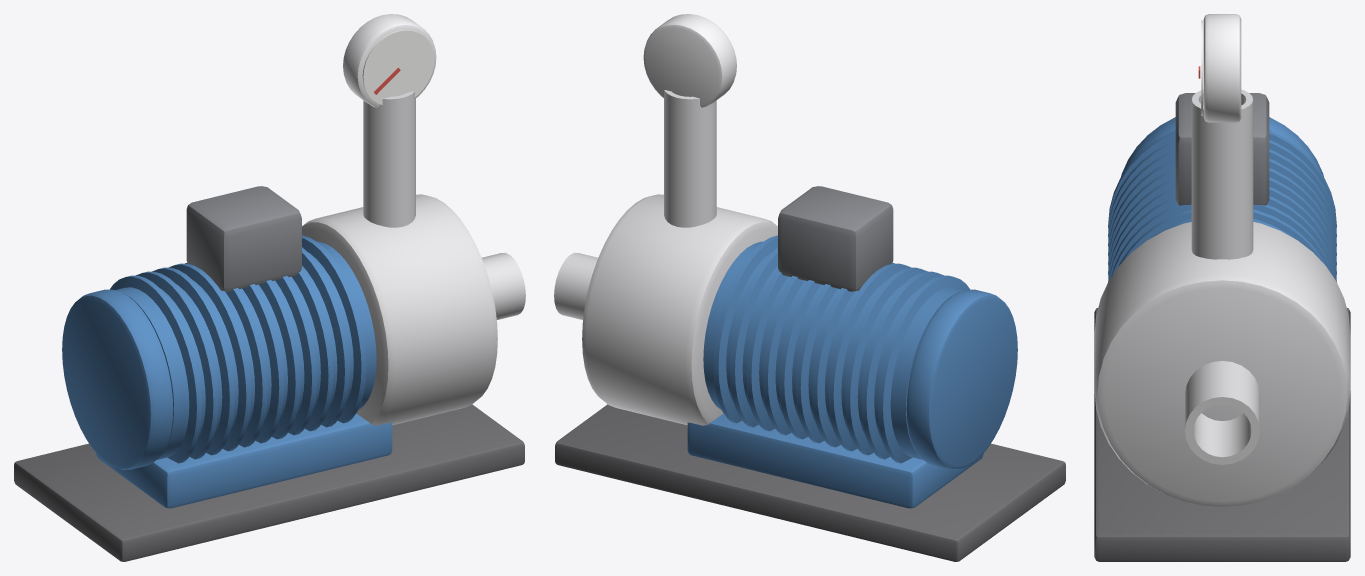
The model's file is HID-BOM-003_lod1.glb.
3 renders of one model, left to right at view 1: azimuth 30°, elevation 25°; view 2: azimuth 150°, elevation 25°; view 3: azimuth 270°, elevation 25°, orthographic. The views are drawn at different scales.
Parts seen in each view (by area): view 1: HID-BOM-003_motor, HID-BOM-003_base, HID-BOM-003_corpo, HID-BOM-003_tampa, HID-BOM-003_pe, HID-BOM-003_pressostato, HID-BOM-003_recalque, HID-BOM-003_mostrador, HID-BOM-003_manometro, HID-BOM-003_succao; view 2: HID-BOM-003_motor, HID-BOM-003_base, HID-BOM-003_corpo, HID-BOM-003_tampa, HID-BOM-003_pe, HID-BOM-003_pressostato, HID-BOM-003_recalque, HID-BOM-003_manometro, HID-BOM-003_succao; view 3: HID-BOM-003_corpo, HID-BOM-003_base, HID-BOM-003_motor, HID-BOM-003_recalque, HID-BOM-003_succao, HID-BOM-003_manometro, HID-BOM-003_pressostato, HID-BOM-003_tampa.
Part boxes in pixels (x1,y1,x2,y2): HID-BOM-003_motor: (110,235,376,463); HID-BOM-003_base: (14,404,524,561); HID-BOM-003_corpo: (302,194,497,425); HID-BOM-003_tampa: (62,289,173,469); HID-BOM-003_pe: (96,413,392,508); HID-BOM-003_pressostato: (186,186,301,291); HID-BOM-003_recalque: (363,91,415,227); HID-BOM-003_mostrador: (362,30,434,104); HID-BOM-003_manometro: (343,14,436,107); HID-BOM-003_succao: (482,252,525,319); HID-BOM-003_motor: (703,235,969,463); HID-BOM-003_base: (555,404,1065,561); HID-BOM-003_corpo: (582,194,777,425); HID-BOM-003_tampa: (906,289,1017,469); HID-BOM-003_pe: (687,413,983,508); HID-BOM-003_pressostato: (778,186,893,291); HID-BOM-003_recalque: (664,90,716,227); HID-BOM-003_manometro: (643,14,736,107); HID-BOM-003_succao: (554,252,597,319); HID-BOM-003_corpo: (1094,222,1350,506); HID-BOM-003_base: (1094,308,1350,561); HID-BOM-003_motor: (1108,130,1336,281); HID-BOM-003_recalque: (1191,89,1253,259); HID-BOM-003_succao: (1185,361,1259,464); HID-BOM-003_manometro: (1203,14,1241,122); HID-BOM-003_pressostato: (1175,93,1269,205); HID-BOM-003_tampa: (1121,117,1323,176).
Bounding box in the file's own units: 0.35 × 0.322 × 0.15.
